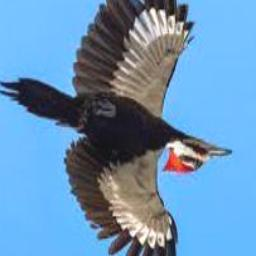Woodpecker: (0, 0, 233, 256)
